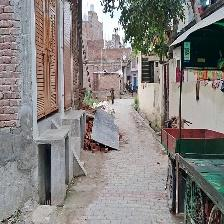Cart: (160, 129, 223, 223)
Obstacle: (50, 130, 73, 206), (35, 140, 62, 203), (82, 105, 118, 152)
Road: (46, 92, 185, 223)
